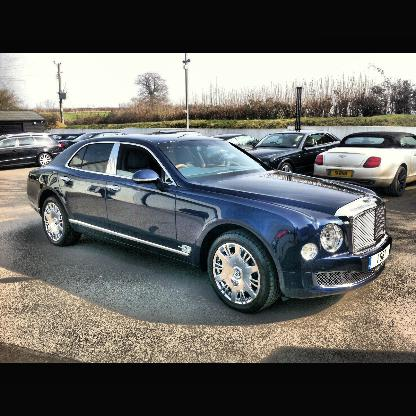Bentley Mulsanne Sedan 2011: (26, 134, 395, 312)
